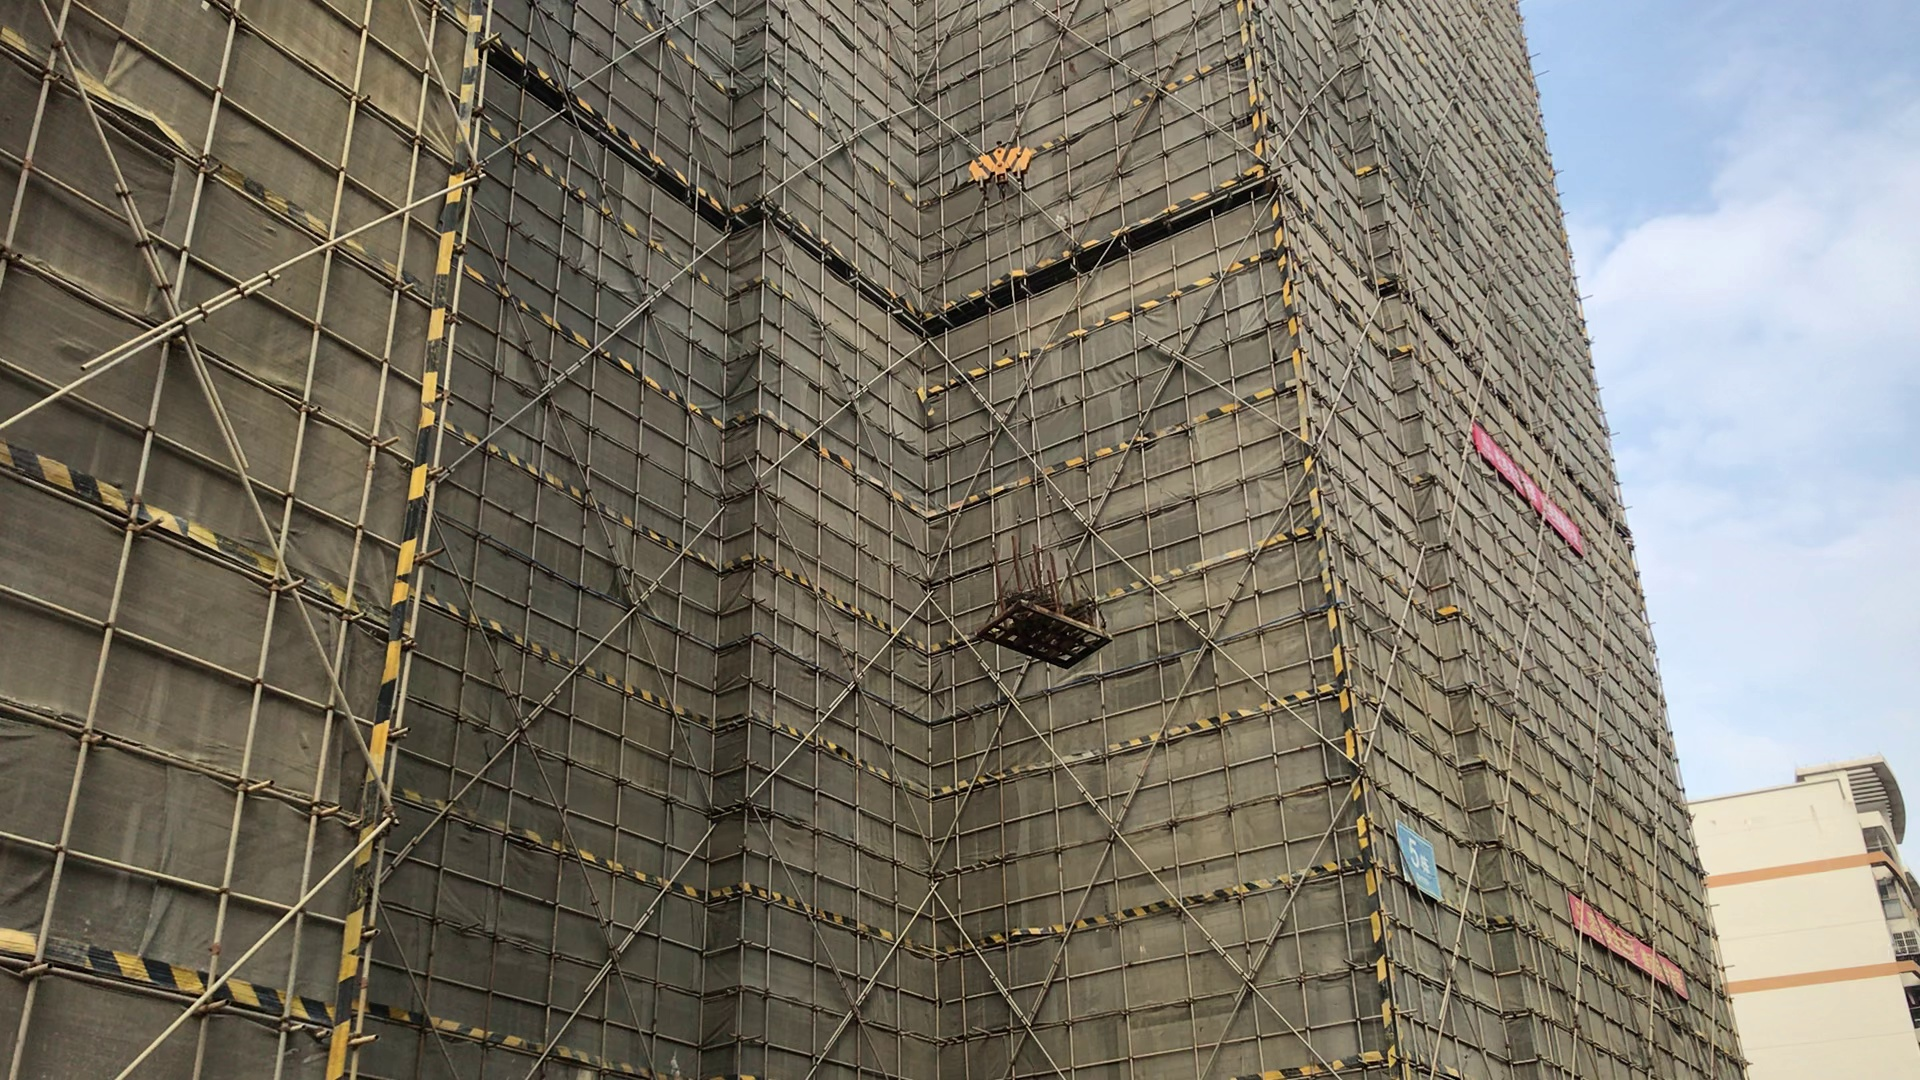hook: (971, 127, 1033, 210)
slogan: (1452, 419, 1607, 556), (1563, 876, 1698, 1001), (1391, 815, 1451, 905)
